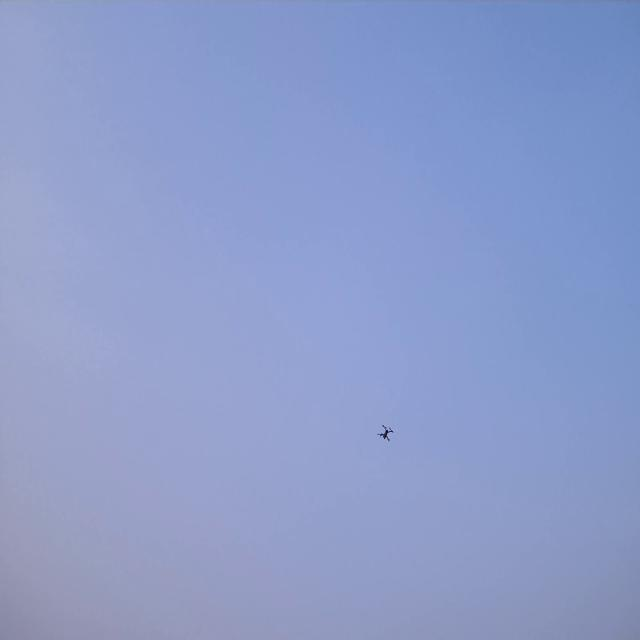UAV: (376, 422, 394, 442)
